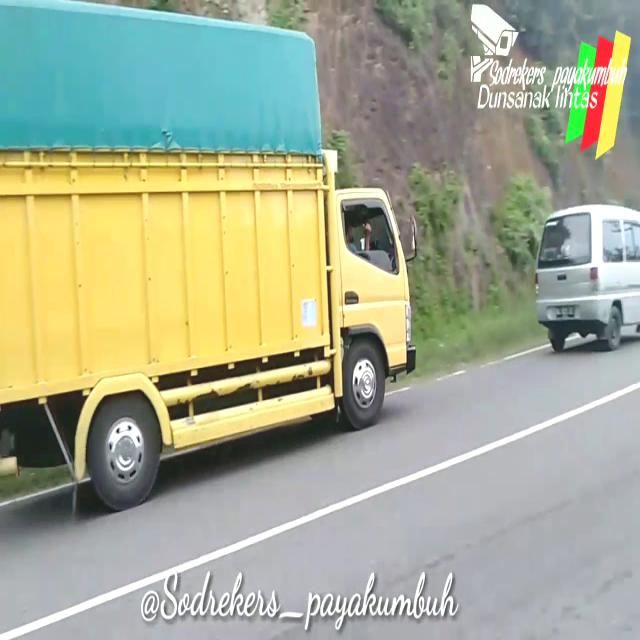truck: (1, 1, 416, 505)
